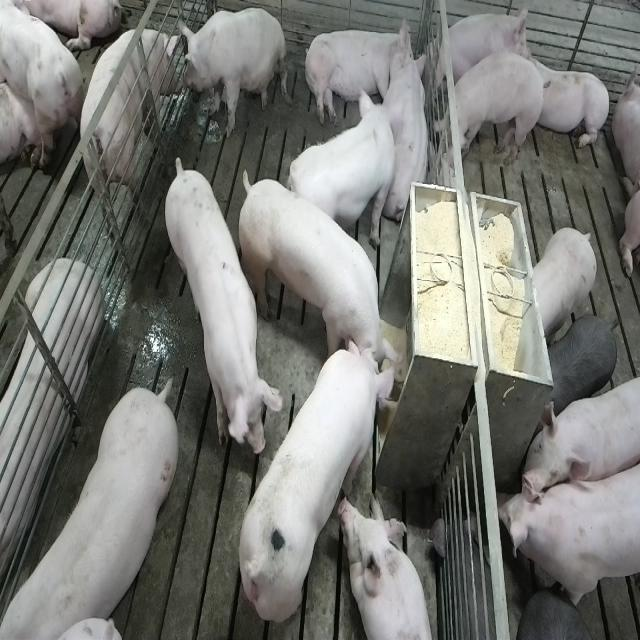Feeding: (236, 335, 400, 625), (232, 166, 400, 382)
Lateral_lying: (302, 16, 417, 128)
Sitting: (177, 6, 287, 139)
Standing: (7, 382, 182, 639), (161, 158, 278, 461), (499, 447, 638, 616), (80, 28, 184, 232), (288, 86, 397, 247), (522, 368, 638, 505), (435, 54, 548, 175), (0, 0, 81, 162), (545, 313, 617, 424), (531, 227, 597, 343), (516, 591, 602, 640)
Sternal_lying: (0, 260, 100, 594), (344, 494, 436, 640), (381, 41, 434, 233), (524, 44, 612, 155), (437, 4, 538, 94)
